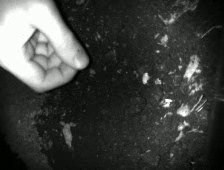corn: (140, 71, 150, 85)
